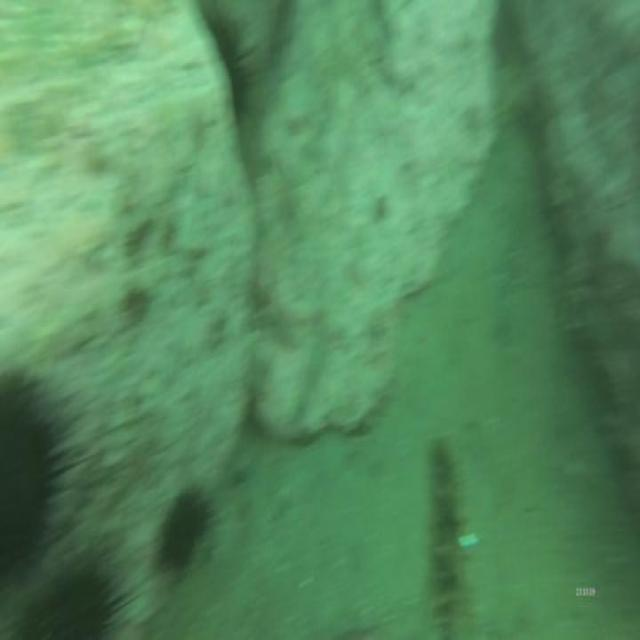echinus: (0, 357, 88, 593), (0, 544, 144, 635), (153, 471, 219, 589)
holothurian: (427, 433, 473, 640)
